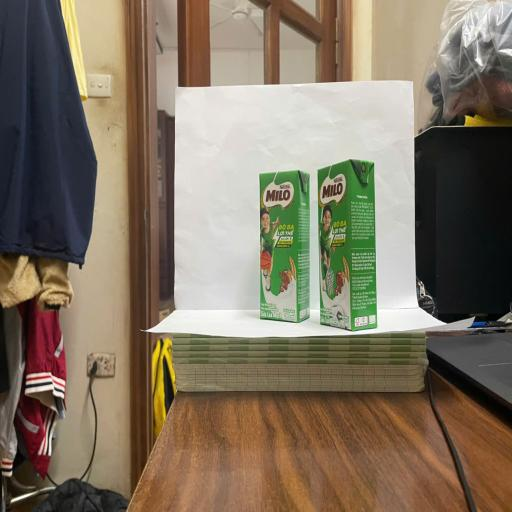milo: (318, 158, 376, 330), (260, 169, 310, 324)
